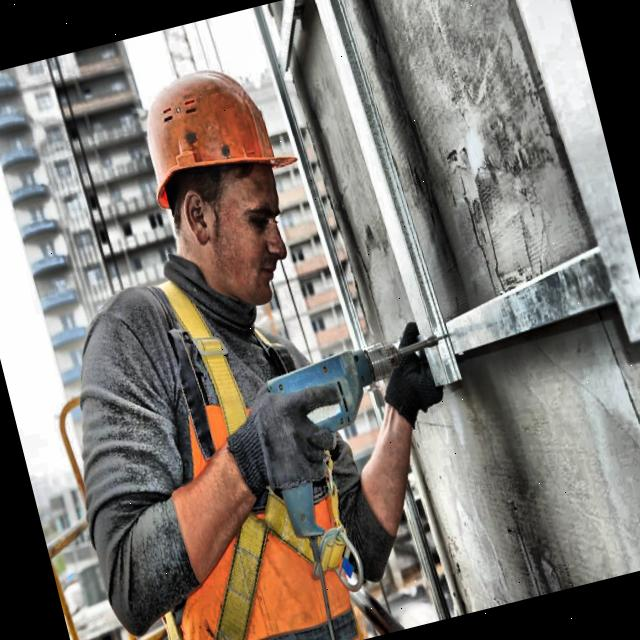helmet: (108, 25, 336, 341)
